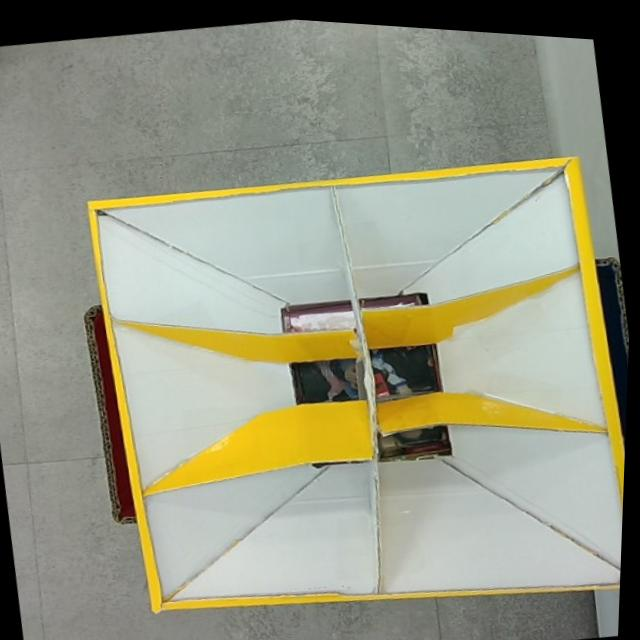box: (56, 114, 637, 640)
